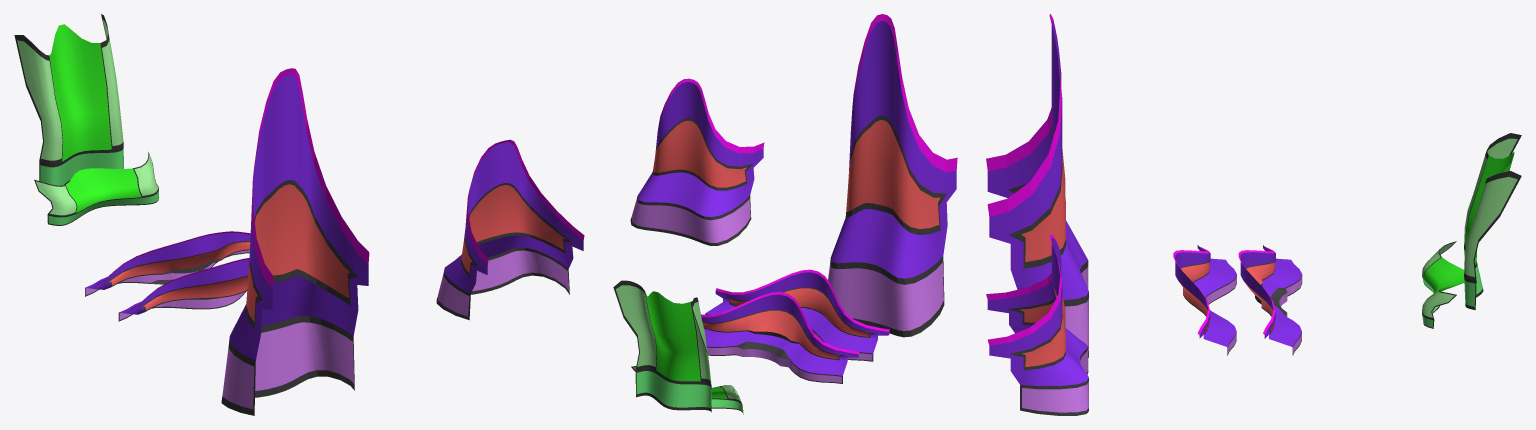
Rendered from wave Building 1 and 2.FBX.
3 views of the same model, side by side, from view 1: azimuth 30°, elevation 25°; view 2: azimuth 150°, elevation 25°; view 3: azimuth 270°, elevation 25° (orthographic). The views are drawn at different scales.
Visible parts, largest first — view 1: Cylinder008, Cylinder009, Cylinder007, Cylinder002, Cylinder006, Cylinder005; view 2: Cylinder008, Cylinder009, Cylinder007, Cylinder006, Cylinder005, Cylinder002; view 3: Cylinder008, Cylinder009, Cylinder007, Cylinder006, Cylinder005, Cylinder002.
Part boxes in pixels (box(x1,y1,x2,y2)): Cylinder008: box(221, 68, 369, 415); Cylinder009: box(436, 139, 584, 320); Cylinder007: box(14, 14, 123, 185); Cylinder002: box(34, 152, 158, 225); Cylinder006: box(85, 231, 250, 296); Cylinder005: box(118, 258, 249, 321); Cylinder008: box(828, 14, 957, 337); Cylinder009: box(630, 78, 764, 245); Cylinder007: box(613, 280, 711, 412); Cylinder006: box(701, 292, 859, 383); Cylinder005: box(705, 269, 889, 361); Cylinder002: box(631, 366, 743, 414); Cylinder008: box(986, 14, 1088, 357); Cylinder009: box(986, 234, 1088, 415); Cylinder007: box(1464, 133, 1521, 310); Cylinder006: box(1238, 245, 1302, 355); Cylinder005: box(1173, 245, 1236, 355); Cylinder002: box(1422, 241, 1464, 328).
Size of the model in its own units: 22693 by 20702 by 30906.
